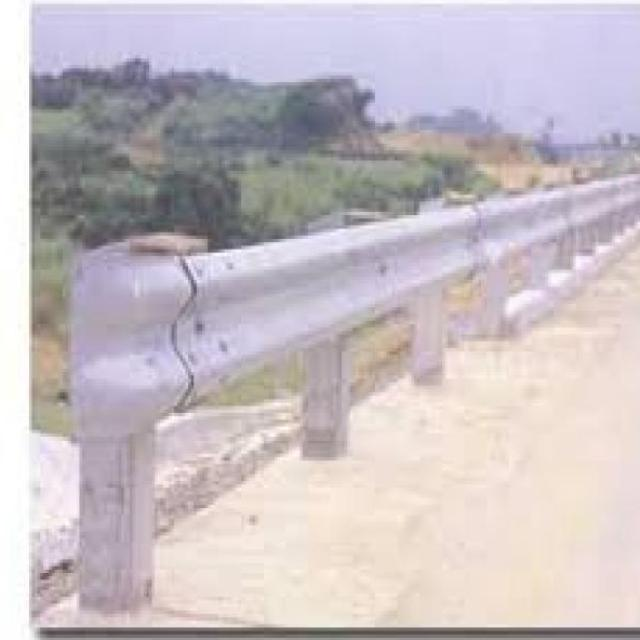Guard rail: (69, 171, 640, 440)
